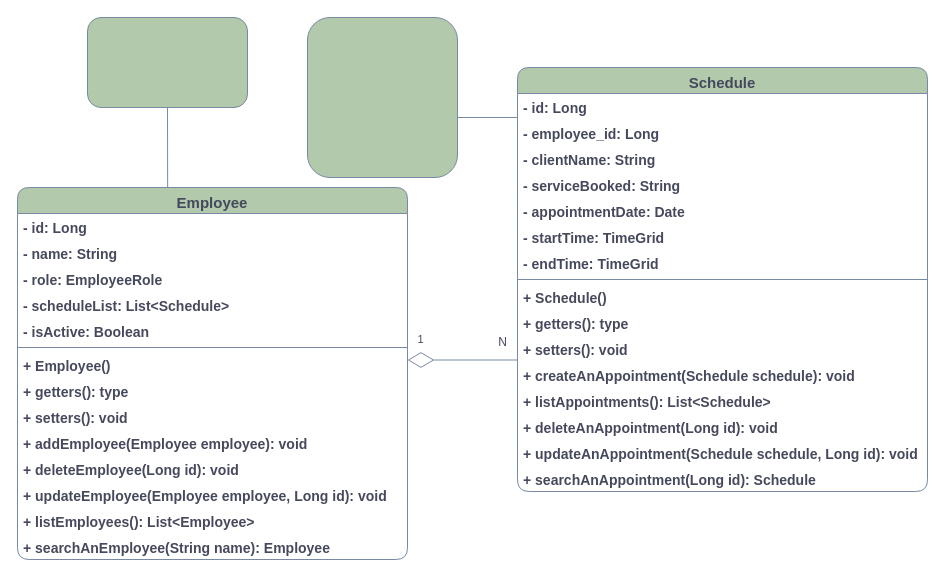
This 945x580 diagram has some shape labels left out. The box of each missing label's shape, as (x1, y1, x2, y2) in pixels:
<<Enumeration>> EmployeeRole + HairStylist + Manicure: (86, 16, 248, 108)
<<Enumeration>> TimeGrid + 8:00 + 8:30 * * + 22:00: (306, 16, 458, 178)
